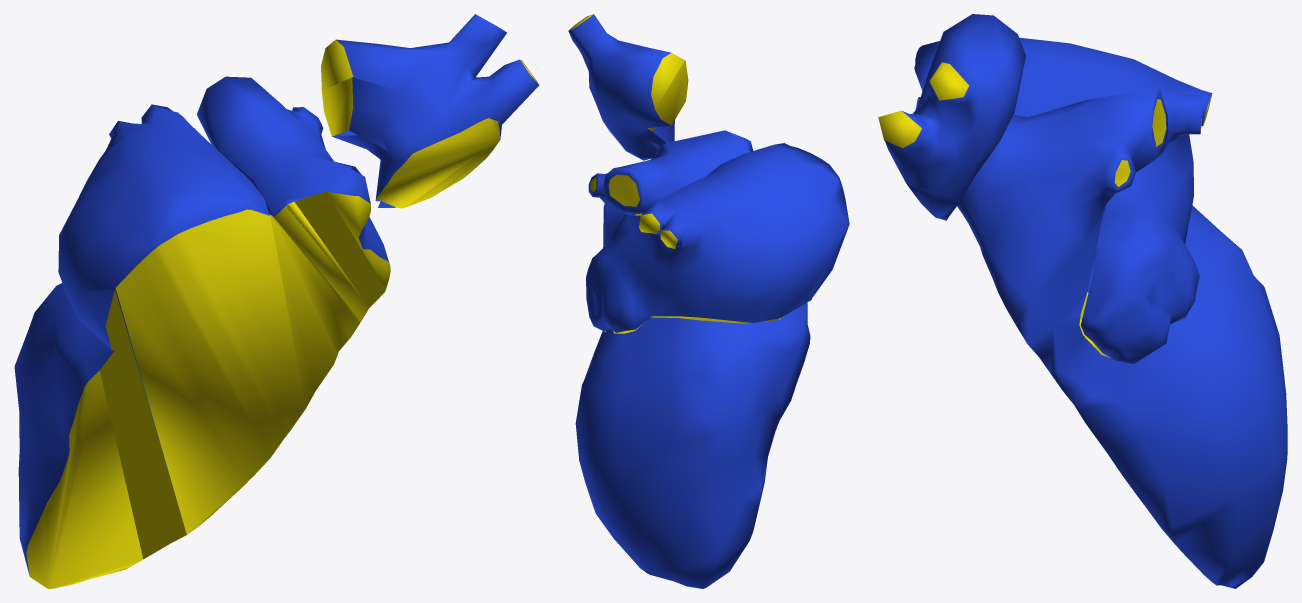
File: nehhwfffheart.fbx
3 renders of one model, left to right at view 1: azimuth 30°, elevation 25°; view 2: azimuth 150°, elevation 25°; view 3: azimuth 270°, elevation 25°, orthographic. The views are drawn at different scales.
Visible parts, largest first — view 1: coeur; view 2: coeur; view 3: coeur.
Part boxes in pixels (x1,y1,x2,y2): coeur: (14, 14, 539, 588); coeur: (568, 14, 849, 588); coeur: (878, 14, 1287, 588).
Bounding box in the file's own units: 194 × 283 × 164.
